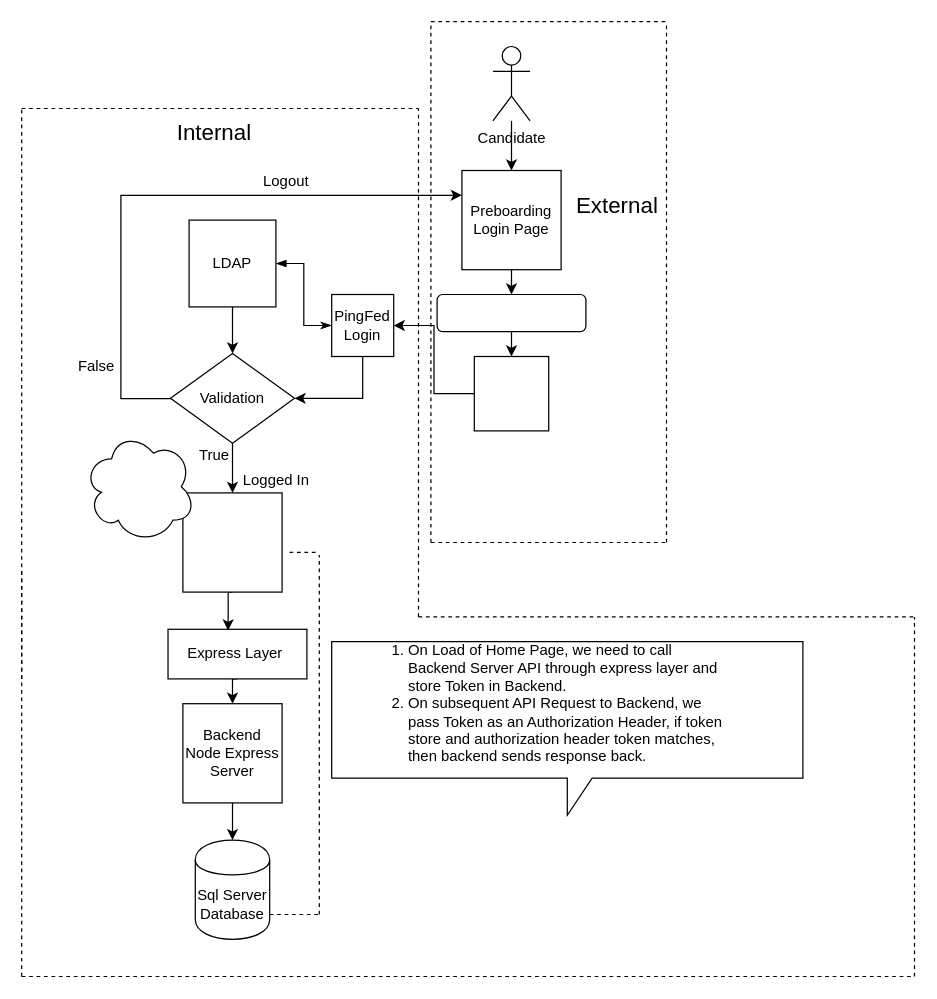
Image size: 937x999. Some labels were removed from this diagram. The shapes that lost their labels are listed below. From the top down, each one's box as (x1, y1, x2, y2) in pixels, then its label:
(436, 293, 586, 332): F5 load balancer
(473, 355, 549, 431): Torbit
(82, 430, 195, 542): Successful Validation will set token in Browser cookies
(182, 492, 282, 592): PreBorarding Home Page
